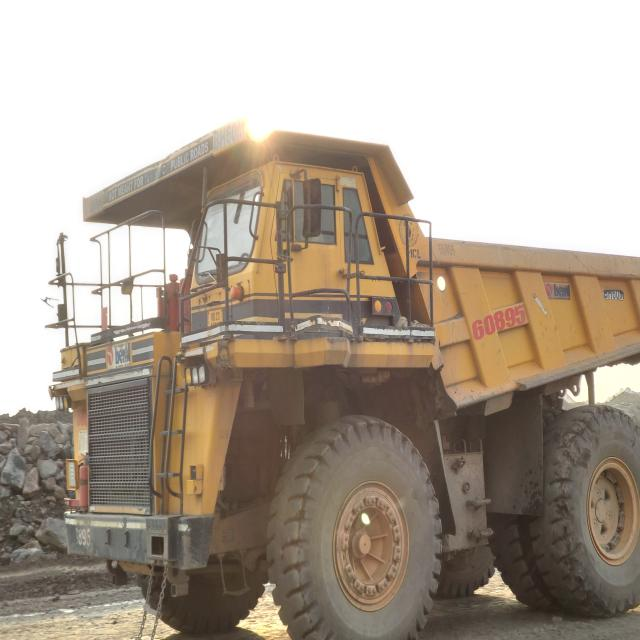dump_truck: (50, 122, 640, 638)
